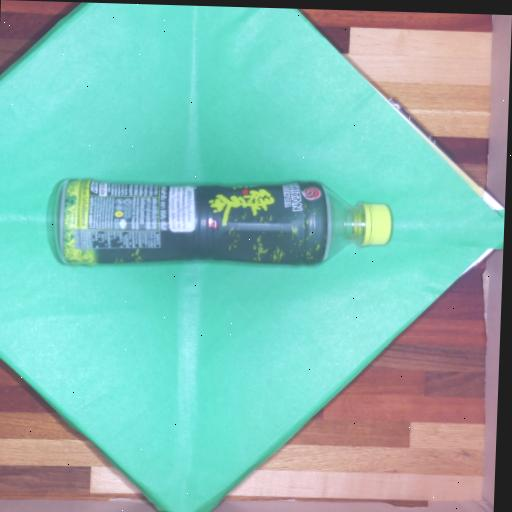bottle: (57, 180, 390, 265)
